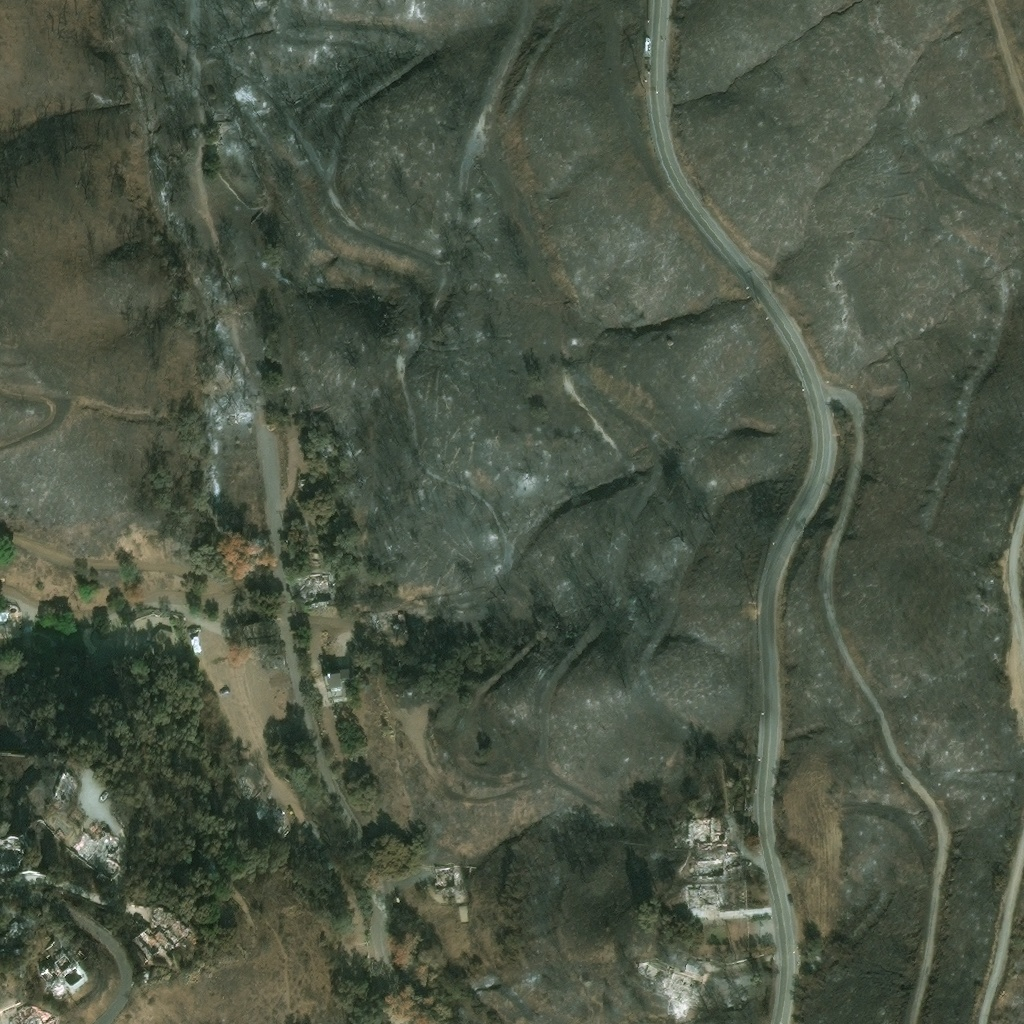0 no-damage: (326, 666, 352, 690), (151, 627, 175, 647), (244, 532, 263, 542), (191, 634, 200, 651), (300, 477, 306, 490)
3 destroyed: (134, 904, 189, 955), (71, 828, 122, 880), (251, 796, 290, 835), (16, 1003, 59, 1023), (662, 971, 695, 996), (304, 573, 330, 603), (0, 837, 25, 868), (687, 814, 714, 841), (0, 919, 21, 949), (685, 882, 716, 902), (693, 852, 724, 871), (682, 956, 706, 980), (46, 974, 68, 998), (53, 769, 74, 794), (435, 860, 455, 884), (50, 948, 70, 970), (385, 609, 407, 626), (299, 820, 317, 840), (235, 772, 256, 787), (723, 850, 740, 865), (713, 829, 729, 843)
4 un-classified: (0, 599, 21, 620), (86, 613, 96, 622)
